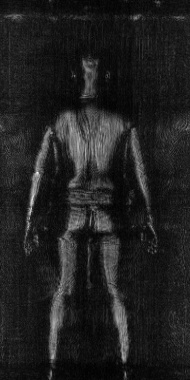gun: (121, 184, 137, 218)
